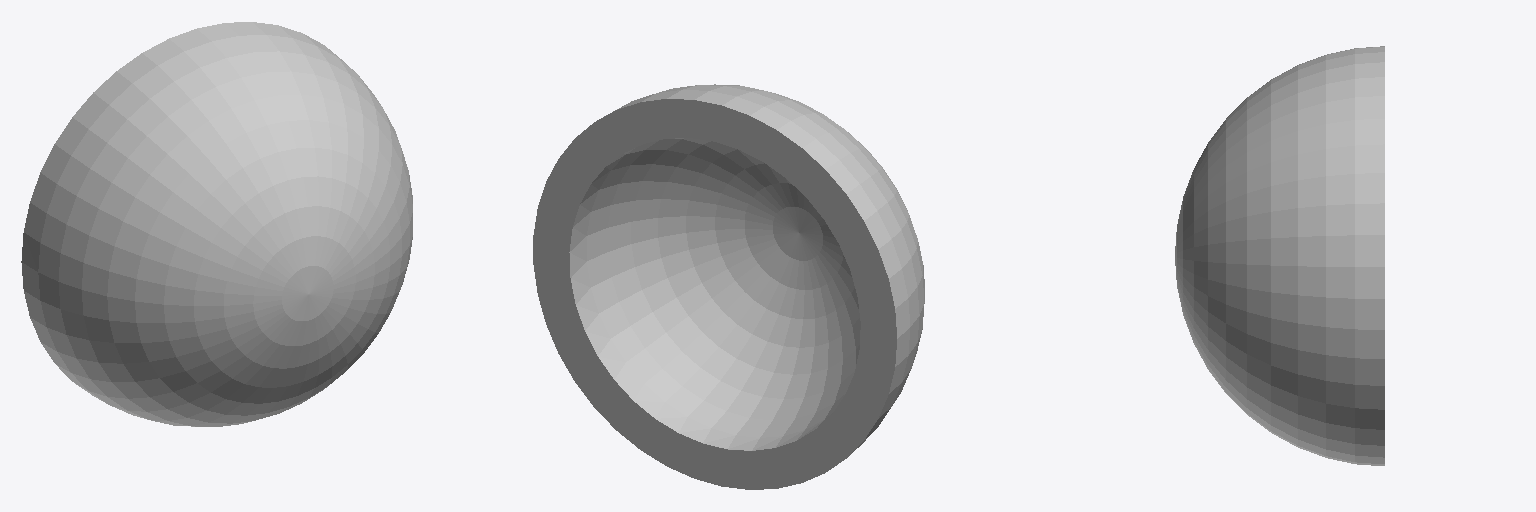
Rendered from trainHeadLight v2.obj.
The picture shows the model from 3 angles: view 1: azimuth 30°, elevation 25°; view 2: azimuth 150°, elevation 25°; view 3: azimuth 270°, elevation 25°; orthographic projection.
Visible parts, largest first — view 1: Body1; view 2: Body1; view 3: Body1.
Part boxes in pixels (x1,y1,x2,y2): Body1: (21, 22, 412, 426); Body1: (533, 84, 924, 489); Body1: (1175, 46, 1384, 465).
Bounding box in the file's own units: 2 × 2 × 1.